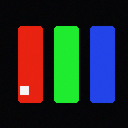1 square: (20, 86, 28, 94)
